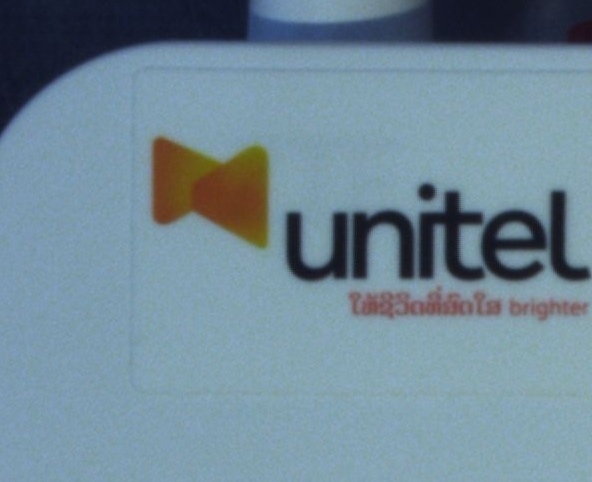BT_unitel: (146, 134, 590, 321)
